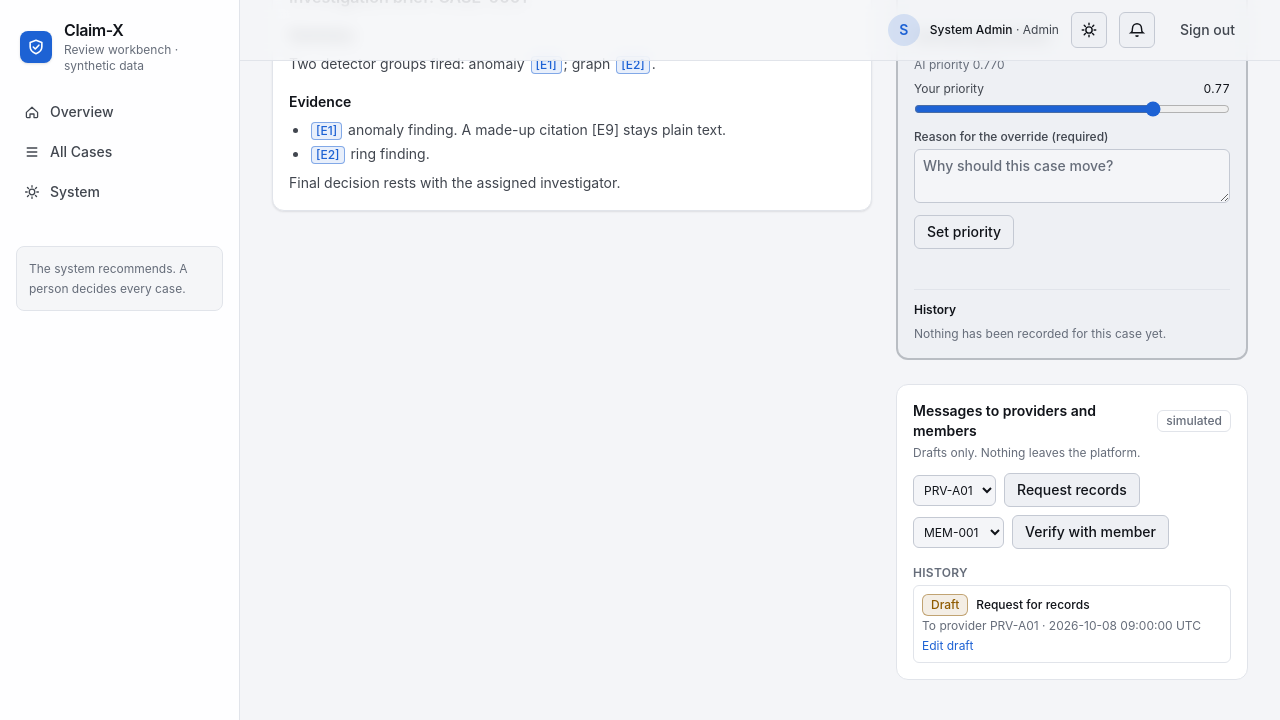
Test: messages to providers and members › shows the validator error inline, and approval needs an approver and a reason
The width and height of the screenshot is (1280, 720).
(page scrolled)
Click the button "Edit draft": click(948, 646) [922,638,973,654]
(page scrolled)
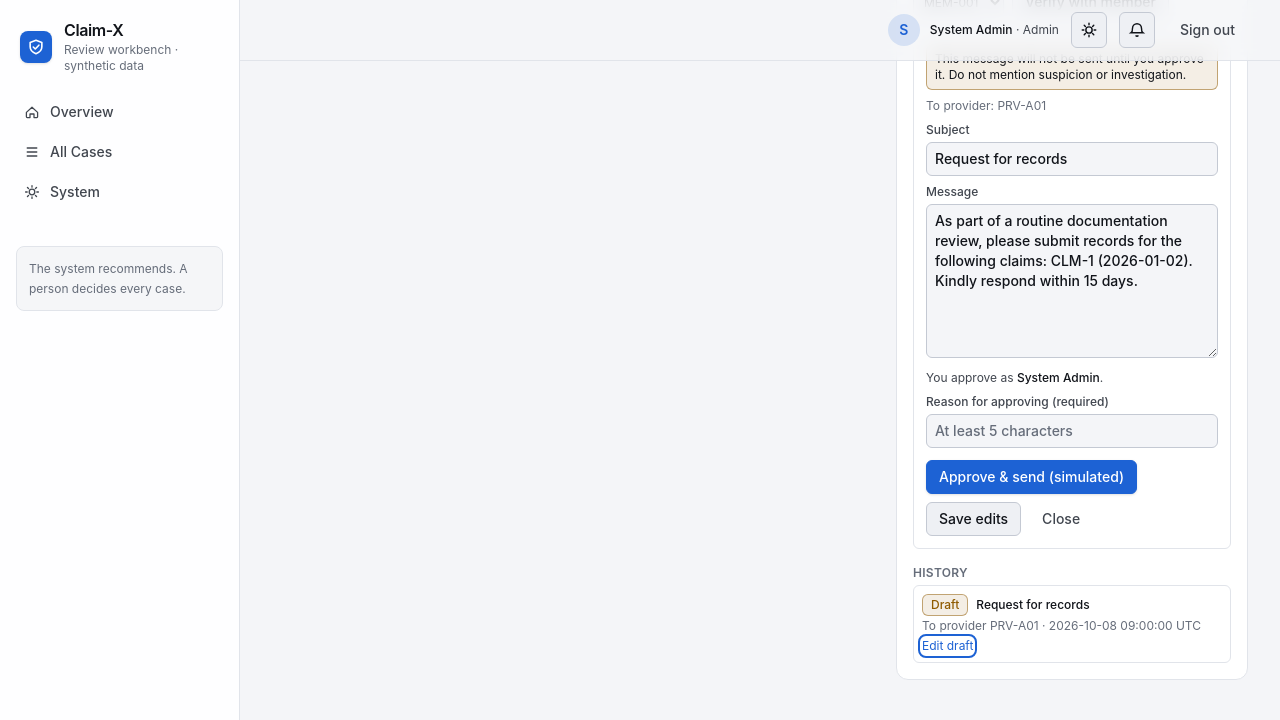
Click the button "Approve & send (simulated)": click(1032, 477) [926,460,1137,494]
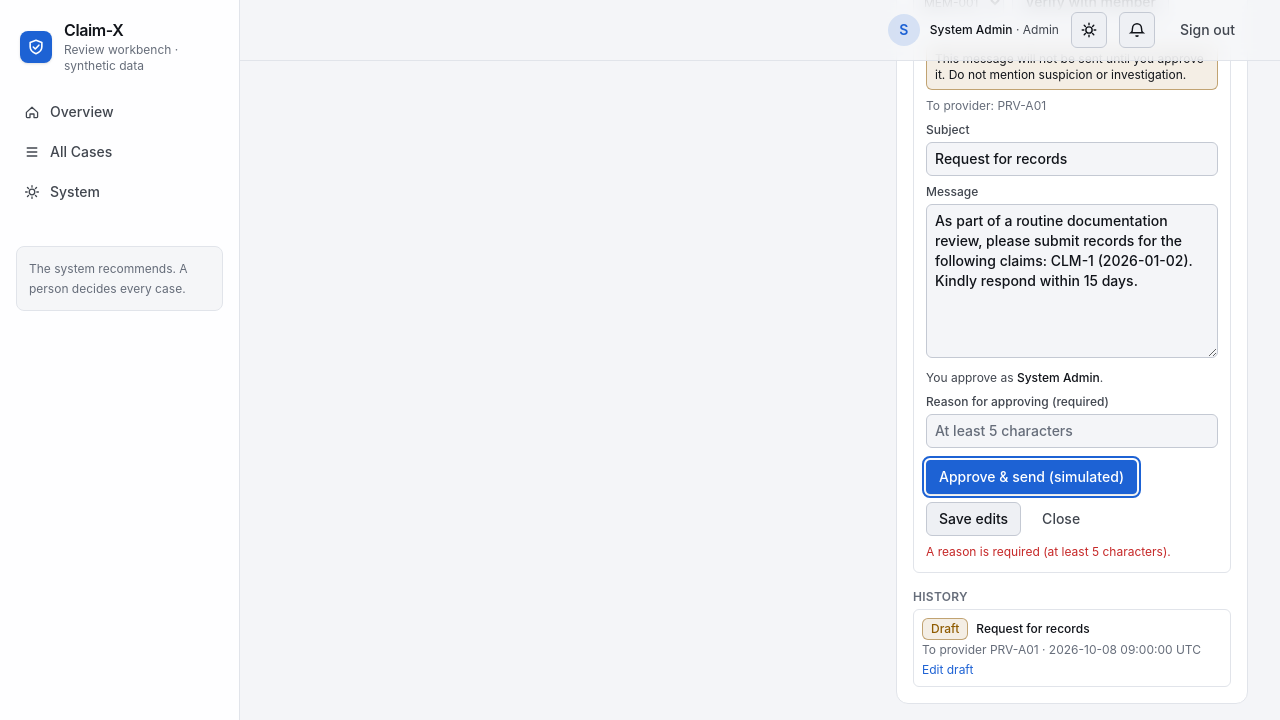
Result: the element with test id "approver" shows "You approve as System Admin" at [926,370,1103,385]
Result: the message with test id "outbound-message" shows "A reason is required" at [926,544,1171,559]
In the field labelled "Reason for approving (required)": (1072, 431) [926,414,1218,448], type "Wording checked"
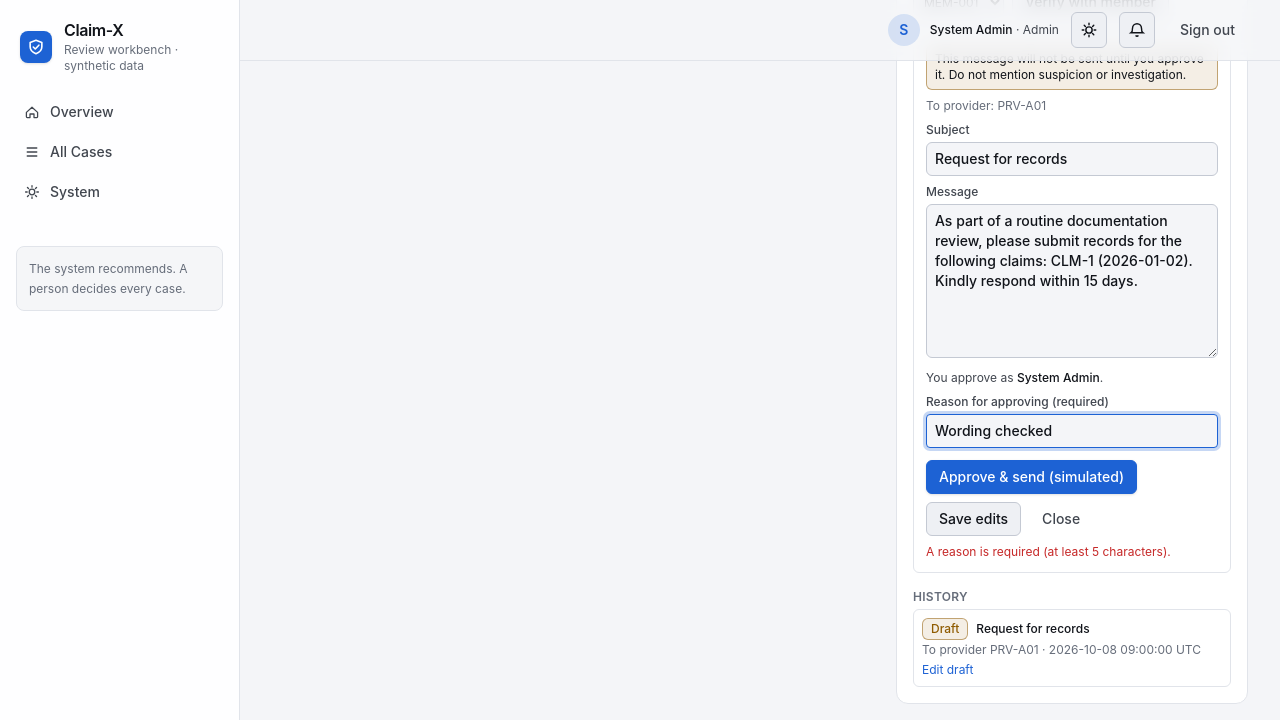
Click the button "Approve & send (simulated)": click(1032, 477) [926,460,1137,494]
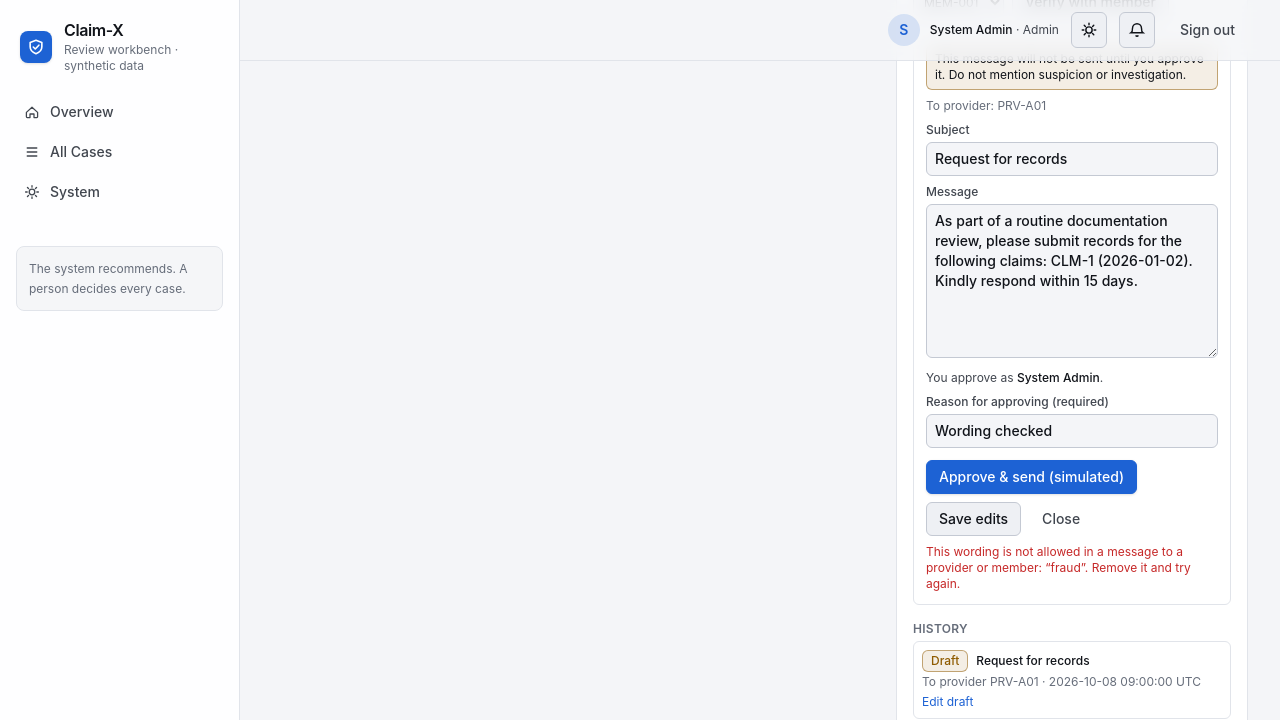
Result: the text "not allowed" is shown at [926,544,1191,591]
